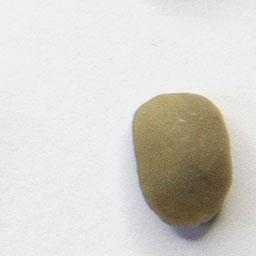peaberry: (129, 88, 236, 233)
